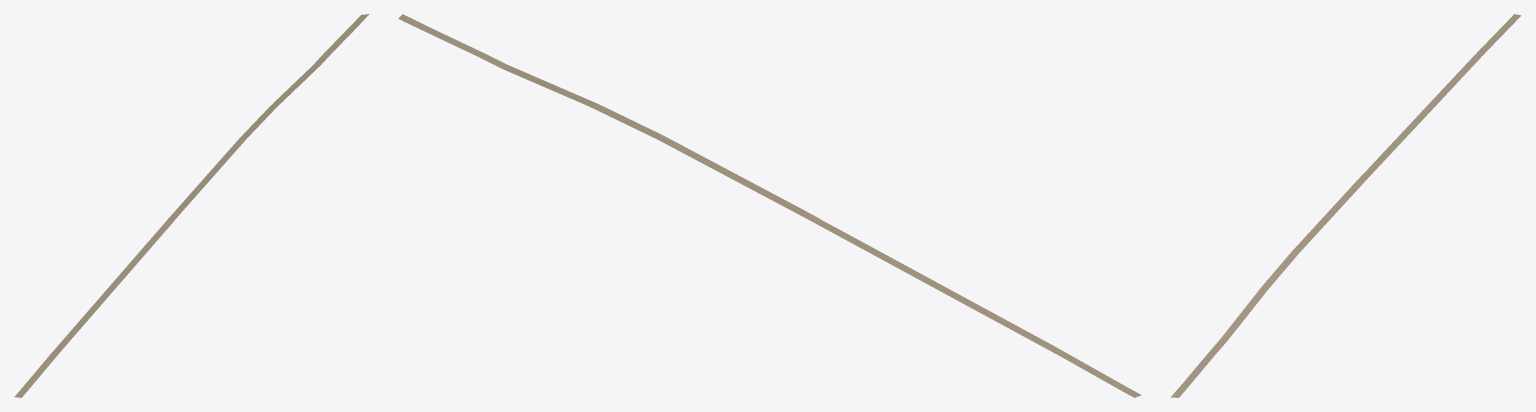
File: farm_28_16_track.glb
3 renders of one model, left to right at view 1: azimuth 90°, elevation 25°; view 2: azimuth 150°, elevation 25°; view 3: azimuth 270°, elevation 25°, orthographic. The views are drawn at different scales.
Parts seen in each view (by area): view 1: geometry_0; view 2: geometry_0; view 3: geometry_0.
Part boxes in pixels (box(x1,y1,x2,y2)): geometry_0: box(14, 14, 369, 397); geometry_0: box(398, 14, 1141, 397); geometry_0: box(1170, 14, 1520, 397).
Bounding box in the file's own units: 381 × 5.64 × 148.
